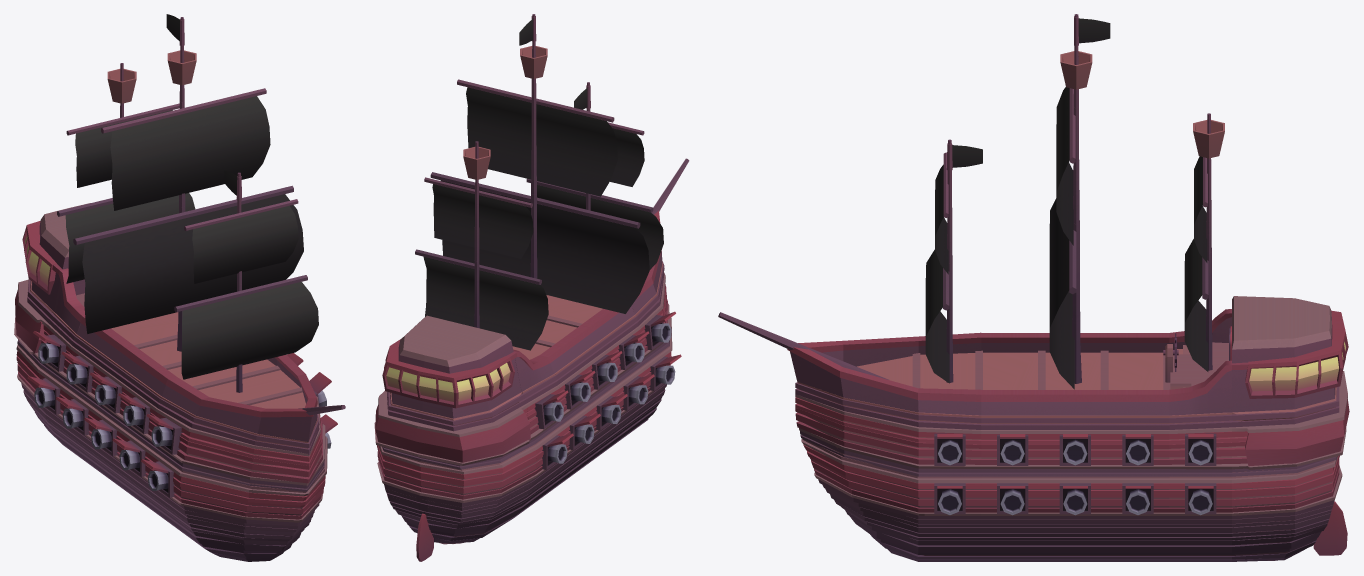
Rendered from Ship 1.fbx.
3 views of the same model, side by side, from view 1: azimuth 30°, elevation 25°; view 2: azimuth 150°, elevation 25°; view 3: azimuth 270°, elevation 25° (orthographic). The views are drawn at different scales.
Visible parts, largest first — view 1: polySurface436; view 2: polySurface436; view 3: polySurface436.
Boxes of the visible parts, x1,y1,x2,y2 form: polySurface436: [14, 14, 345, 561]; polySurface436: [374, 14, 689, 561]; polySurface436: [718, 14, 1349, 561].
Bounding box in the file's own units: 1341 × 2851 × 3020.
8 materials, 8 textured.
